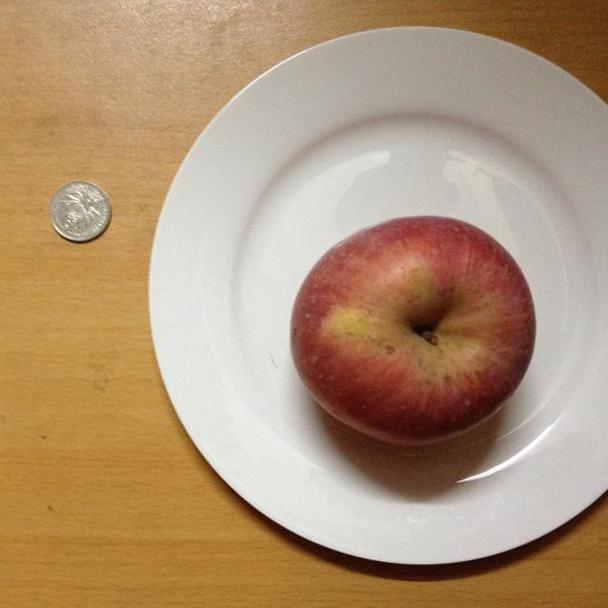apple: (290, 213, 542, 446)
